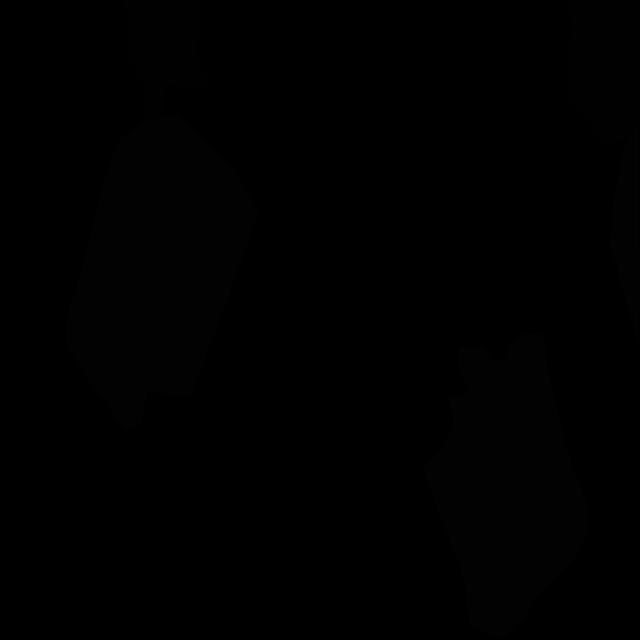cardboard: (66, 113, 259, 431), (422, 333, 589, 640), (609, 124, 640, 280), (617, 267, 640, 346)
rigid_plastic: (122, 0, 213, 122), (567, 0, 640, 144)
